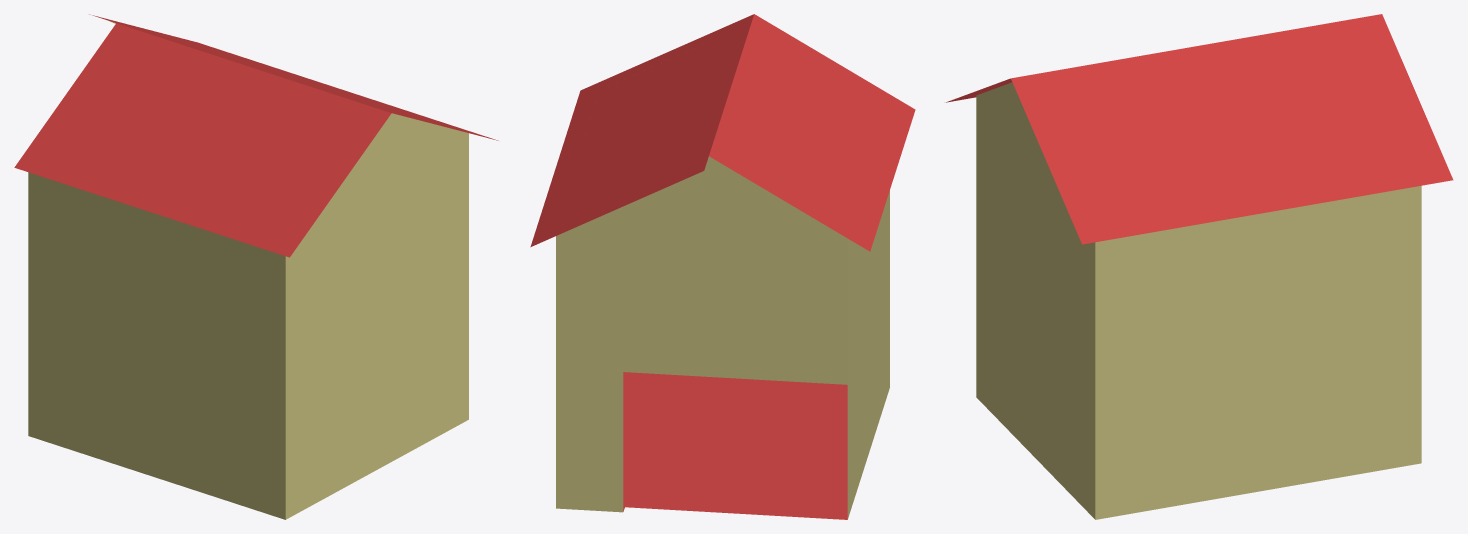
3 views of the same model, side by side, from view 1: azimuth 30°, elevation 25°; view 2: azimuth 150°, elevation 25°; view 3: azimuth 270°, elevation 25° (orthographic). The views are drawn at different scales.
Bounding box in the file's own units: 9.73 × 10.46 × 8.65.
